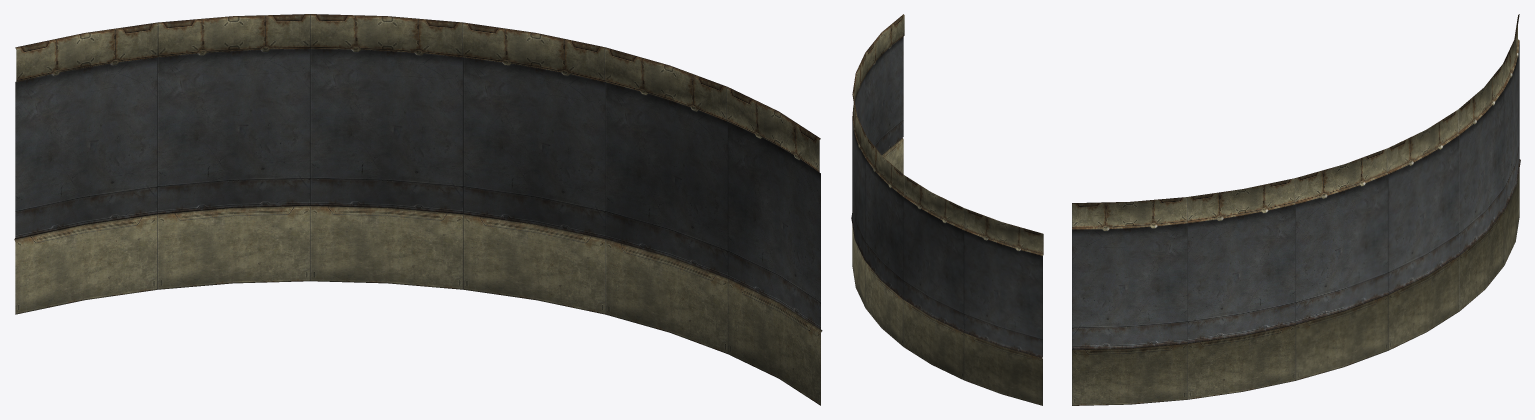
Rendered from datasite_concave_large01.dae.
3 renders of one model, left to right at view 1: azimuth 30°, elevation 25°; view 2: azimuth 150°, elevation 25°; view 3: azimuth 270°, elevation 25°, orthographic. The views are drawn at different scales.
Parts seen in each view (by area): view 1: polySurface35; view 2: polySurface35; view 3: polySurface35.
Boxes of the visible parts, x1,y1,x2,y2 form: polySurface35: (14,14,822,405); polySurface35: (851,14,1043,405); polySurface35: (1072,14,1520,405).
Size of the model in its own units: 8.03 by 4 by 8.02.
